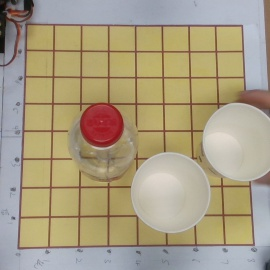bottle: (59, 103, 139, 188)
cup: (124, 151, 210, 234), (196, 102, 270, 186)
